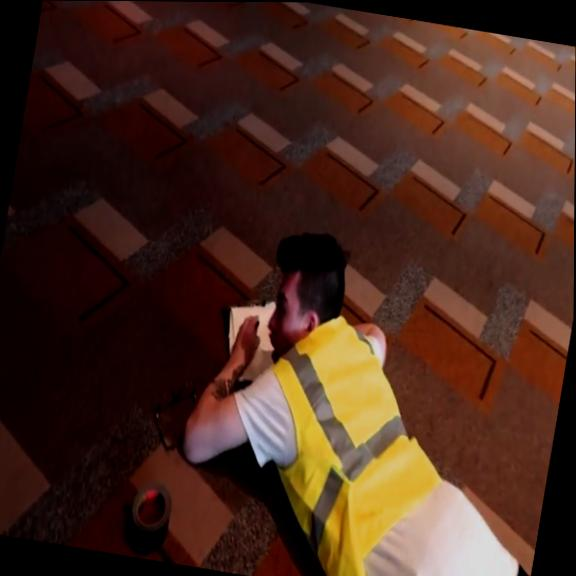safety_vest: (236, 309, 468, 576)
